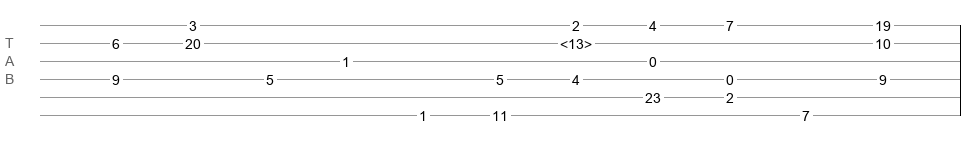0: (649, 54, 657, 64), (726, 72, 734, 82)
1: (342, 54, 350, 64), (419, 108, 427, 118)
10: (875, 36, 891, 46)
11: (492, 108, 508, 118)
19: (875, 18, 891, 28)
2: (572, 18, 580, 28), (726, 90, 734, 100)
20: (185, 36, 201, 46)
23: (645, 90, 661, 100)
3: (189, 18, 197, 28)
4: (572, 72, 580, 82), (649, 18, 657, 28)
5: (266, 72, 274, 82), (496, 72, 504, 82)
6: (112, 36, 120, 46)
7: (726, 18, 734, 28), (802, 108, 810, 118)
9: (112, 72, 120, 82), (879, 72, 887, 82)
harmonic: (560, 36, 592, 46)
